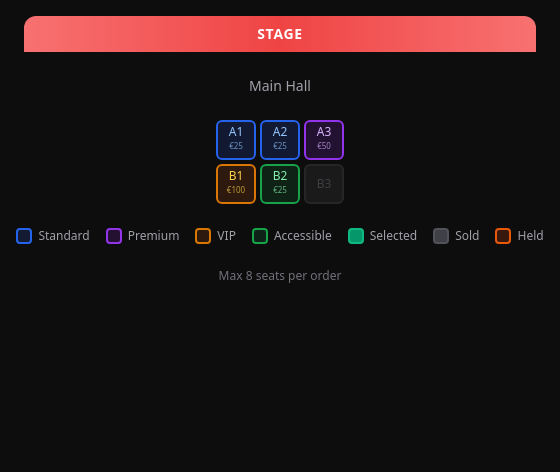
Test case: SeatPicker › uses custom currency symbol
What coordinates should you click on to do the following:
click the button named "Seat A1"
I would click on:
 (236, 140)
Its box is [216,120,256,160].
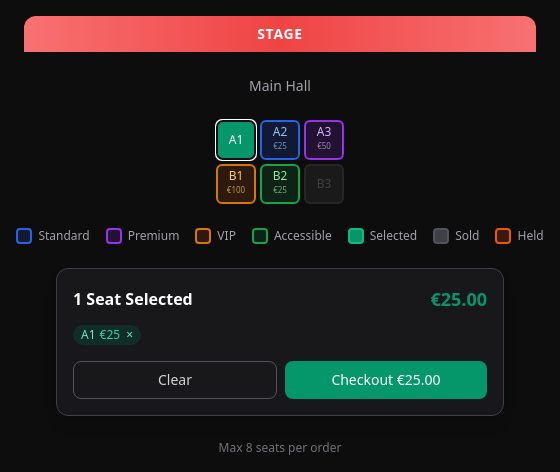
Result: the text "€25.00" is shown at [430,285,487,313]
